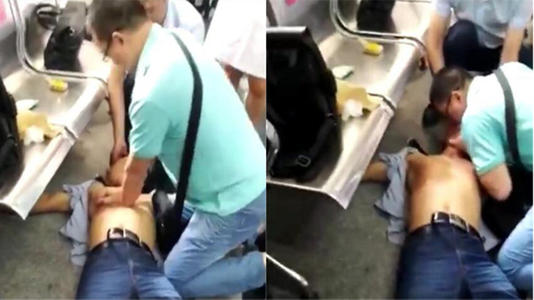fall: (41, 141, 203, 294)
